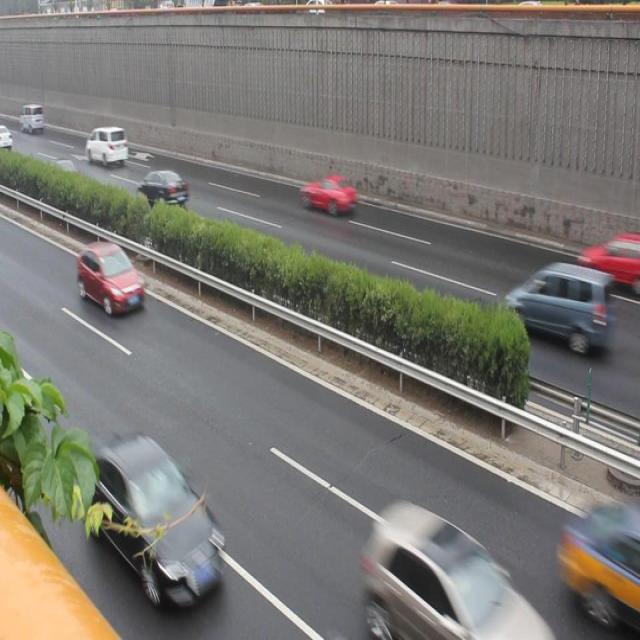car: (362, 493, 546, 640), (82, 422, 230, 602), (504, 256, 612, 356), (76, 234, 146, 322), (571, 228, 640, 289), (297, 170, 358, 222), (139, 162, 190, 210)
